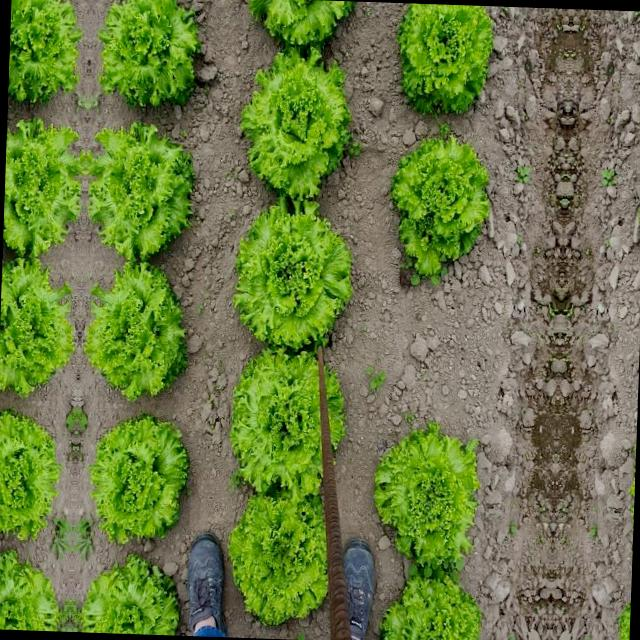healthy: (75, 390, 212, 566), (218, 486, 372, 640), (364, 418, 514, 568), (226, 46, 366, 204), (372, 125, 516, 275), (220, 198, 356, 352), (77, 258, 212, 412), (82, 113, 211, 265), (222, 349, 356, 483), (376, 2, 531, 110), (372, 548, 519, 640), (70, 534, 200, 636), (2, 110, 87, 261), (0, 386, 73, 560), (90, 0, 220, 96), (0, 254, 81, 407), (8, 0, 89, 92), (0, 530, 71, 631), (238, 0, 359, 57), (594, 426, 636, 572), (582, 555, 632, 640), (612, 133, 640, 279), (607, 10, 640, 114)
